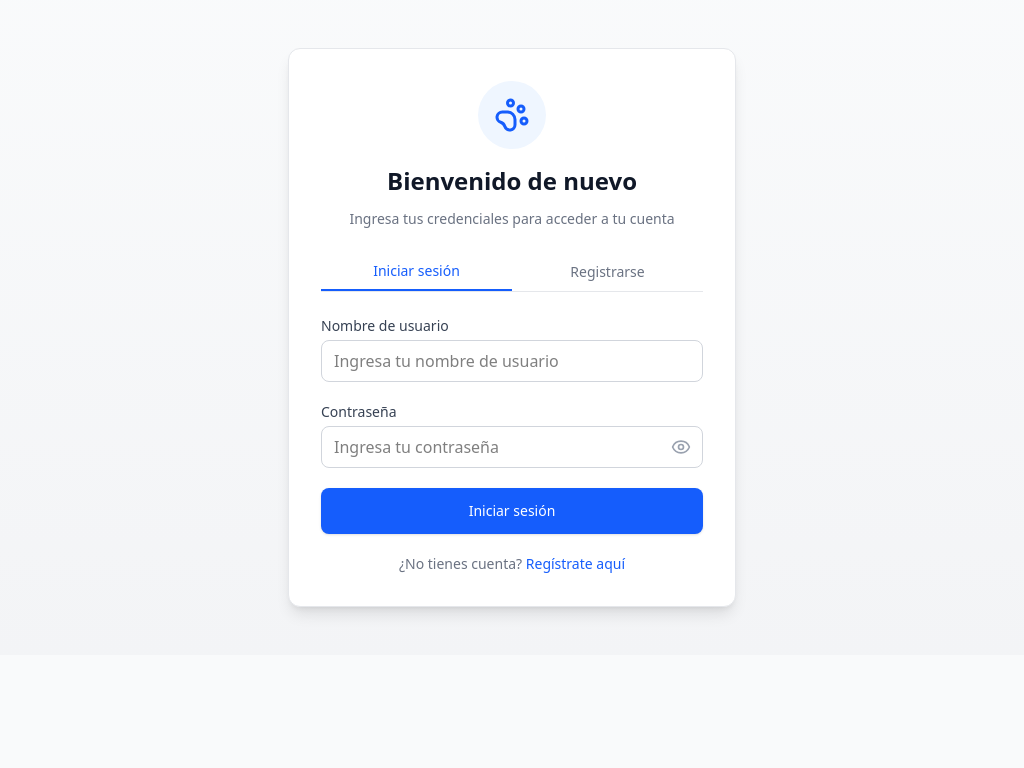
Test: Users Integration › allows user login
The width and height of the screenshot is (1024, 768).
Type "testuser" into the field labelled "Nombre de usuario" at (512, 361), box x1=321 y1=340 x2=703 y2=382
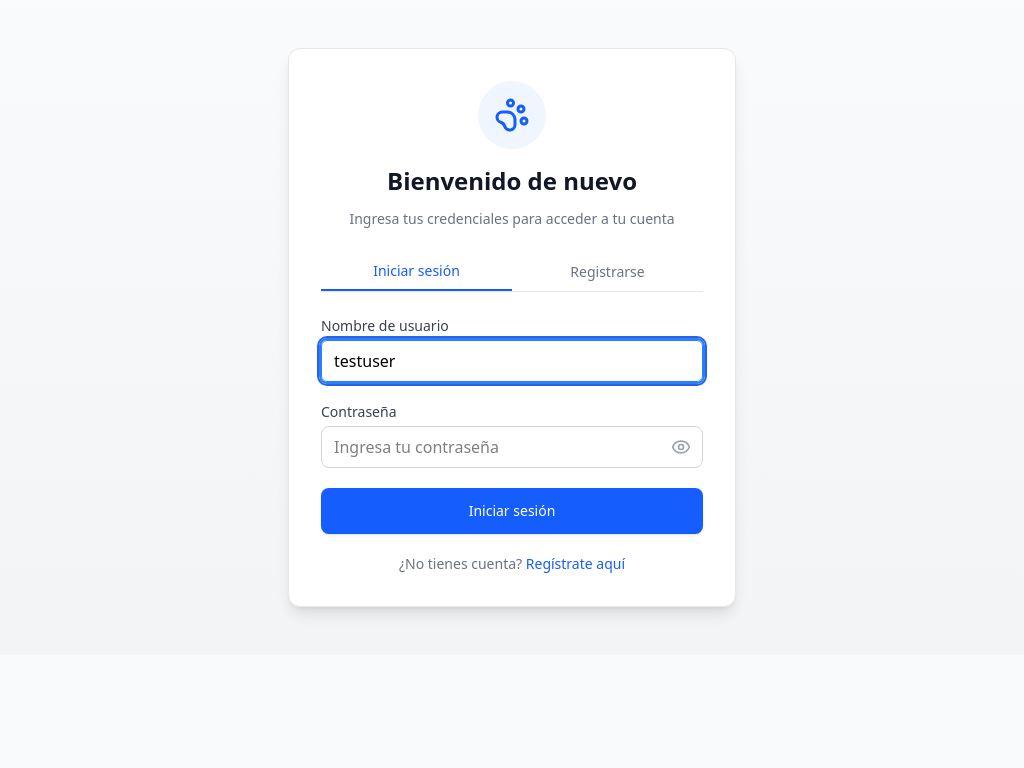
Type "password" into the password field labelled "Contraseña" at (512, 447), box x1=321 y1=426 x2=703 y2=468
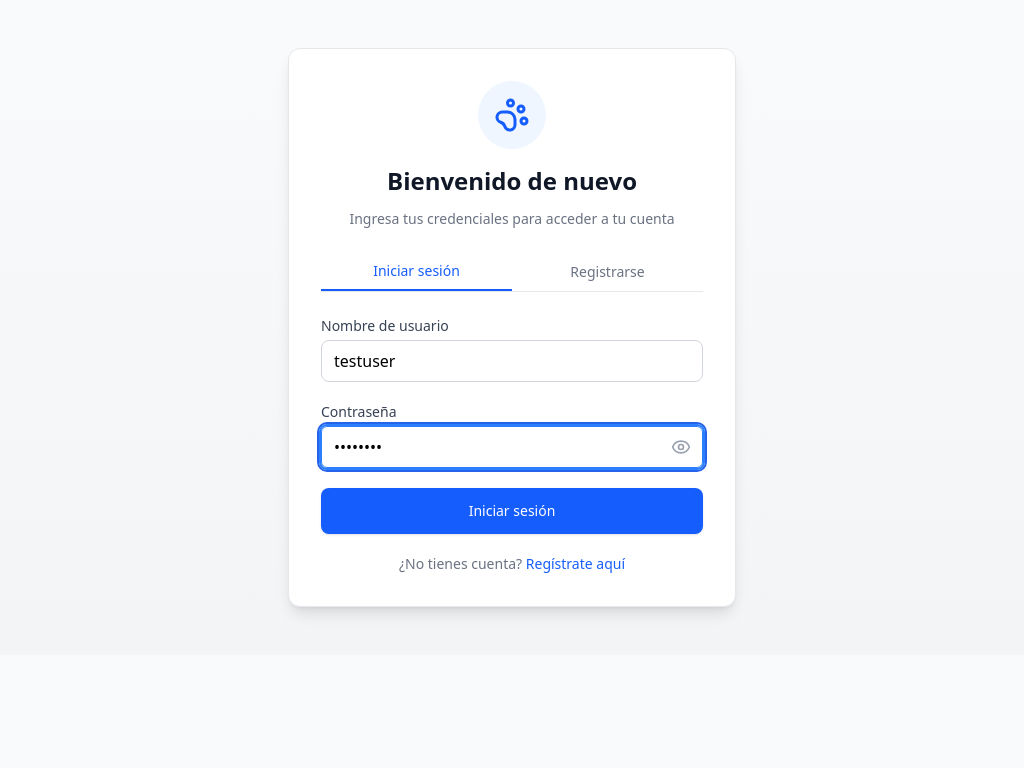
Click the button "Iniciar sesión" below "Contraseña" at (512, 511), box x1=321 y1=488 x2=703 y2=534
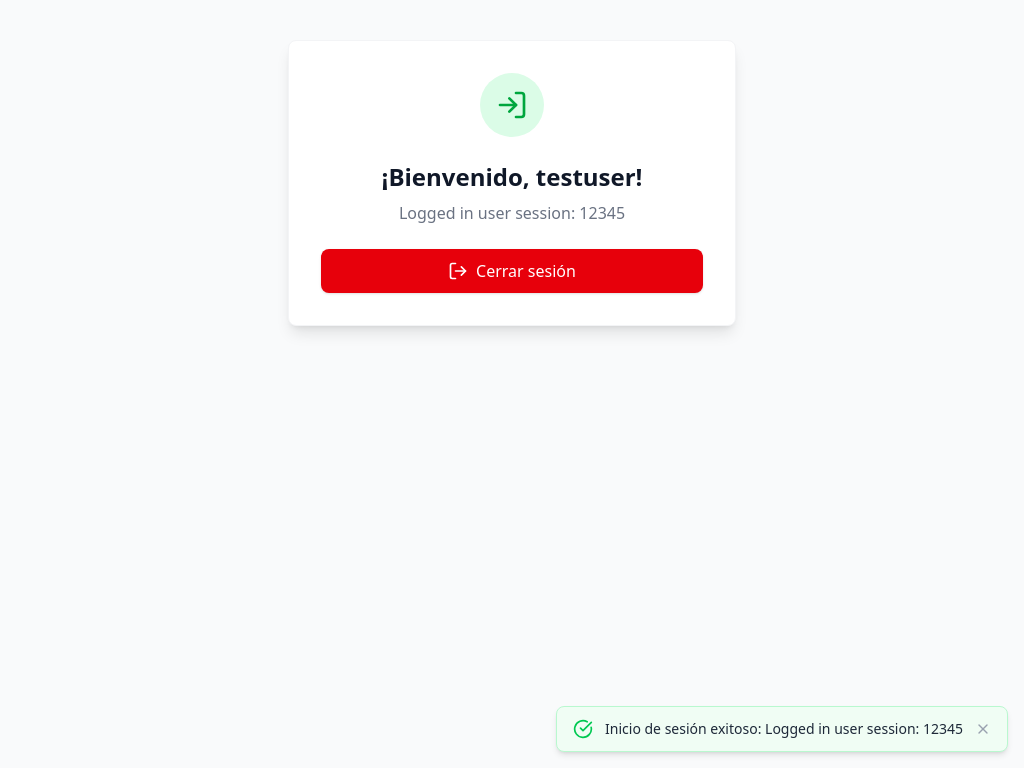
Result: the heading "¡Bienvenido, testuser!" is shown at x1=382 y1=160 x2=642 y2=193
